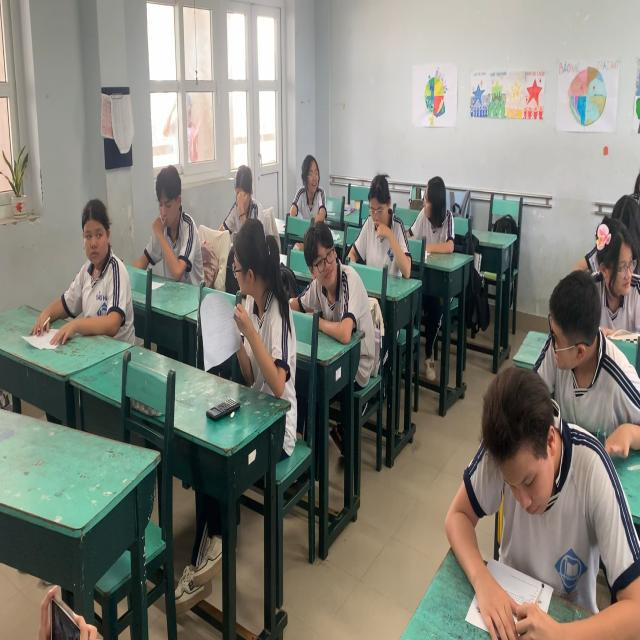cheating: (227, 208, 295, 399), (538, 261, 600, 392), (295, 219, 363, 337), (70, 205, 130, 330), (586, 202, 640, 319), (408, 167, 458, 257), (287, 143, 330, 233)
not_cheating: (450, 381, 639, 640), (134, 154, 208, 291), (359, 170, 408, 270), (225, 160, 266, 226)
